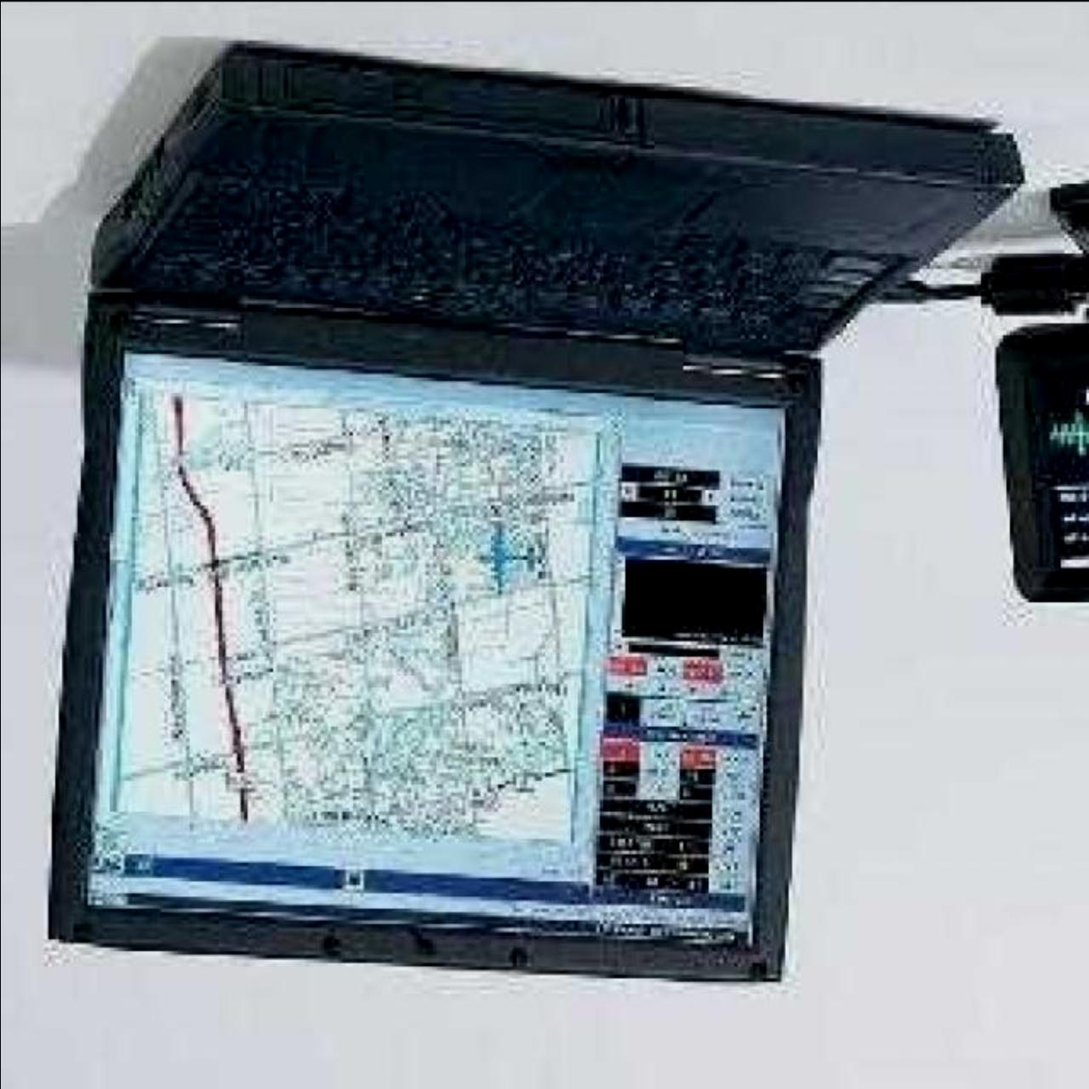laptop: (137, 89, 898, 979)
